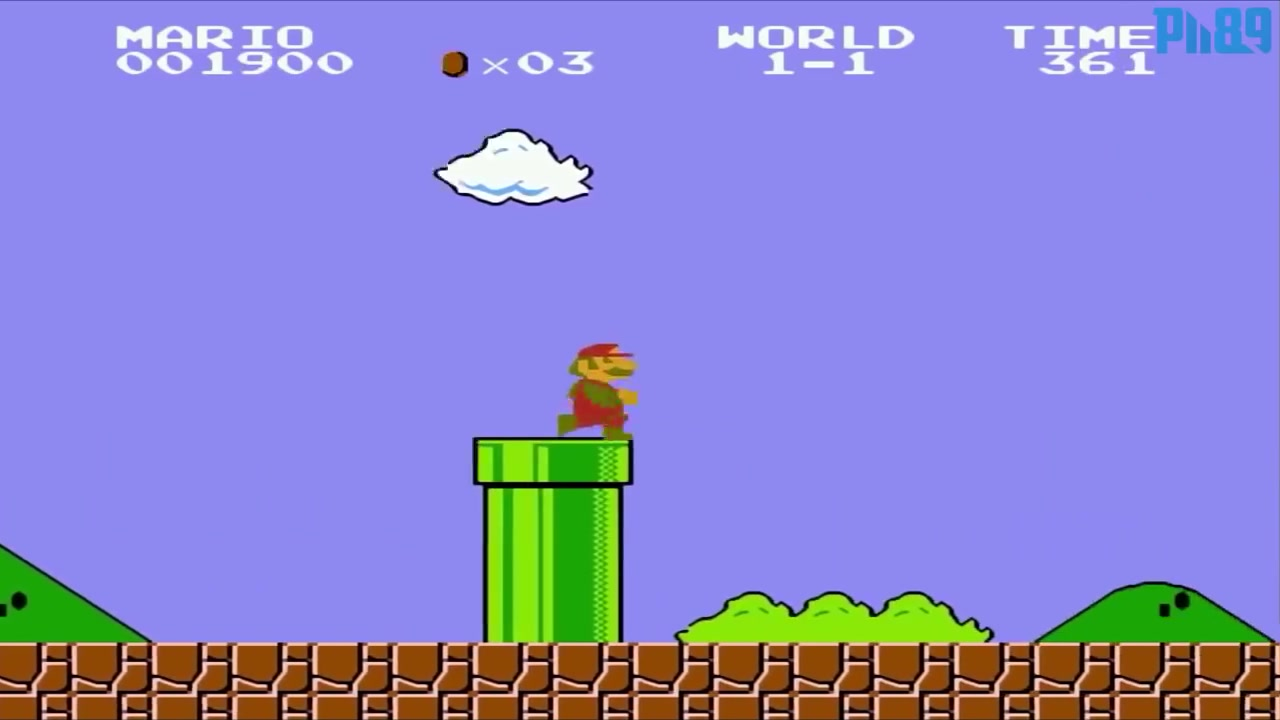mario: (550, 331, 643, 444)
